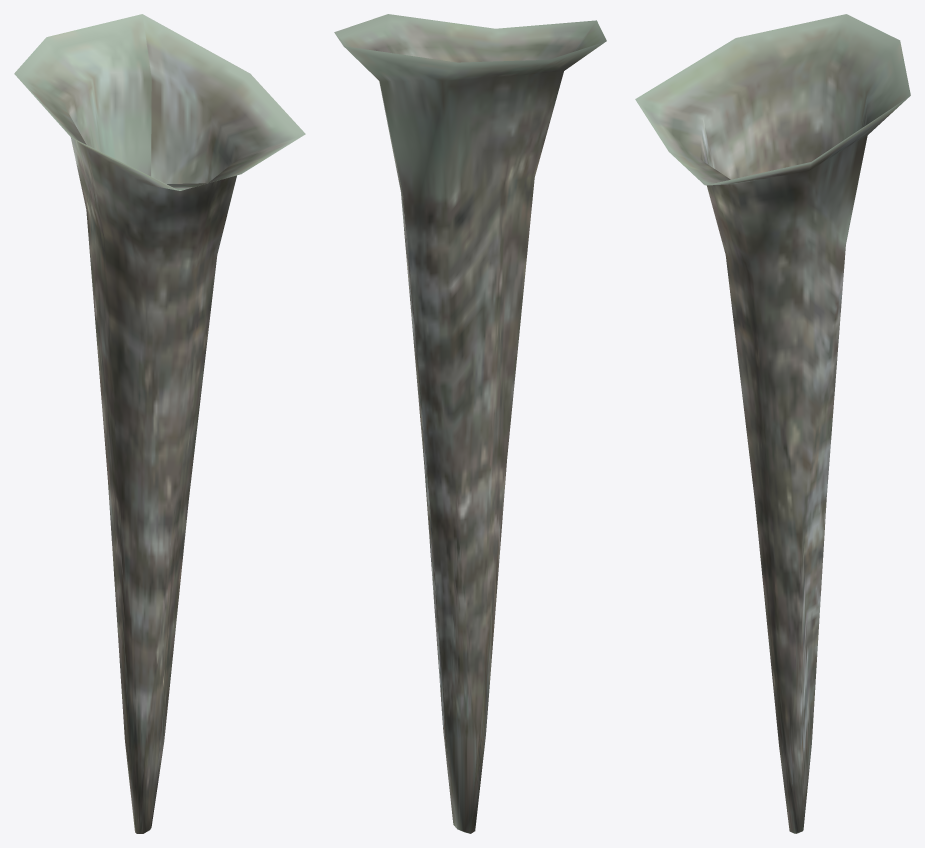
File: TROLLHOLE02_PS-UPPERSTALAG.fbx
The picture shows the model from 3 angles, left to right: view 1: azimuth 30°, elevation 25°; view 2: azimuth 150°, elevation 25°; view 3: azimuth 270°, elevation 25°; orthographic projection. The views are drawn at different scales.
Visible parts, largest first — view 1: TROLLHOLE02_PS-UPPERSTALAG; view 2: TROLLHOLE02_PS-UPPERSTALAG; view 3: TROLLHOLE02_PS-UPPERSTALAG.
Boxes of the visible parts, <box> form: TROLLHOLE02_PS-UPPERSTALAG: <box>14,14,305,833</box>; TROLLHOLE02_PS-UPPERSTALAG: <box>334,14,606,833</box>; TROLLHOLE02_PS-UPPERSTALAG: <box>635,14,910,833</box>.
Bounding box in the file's own units: 8472 × 28107 × 9109.
Materials: 1 (1 with a texture image).
